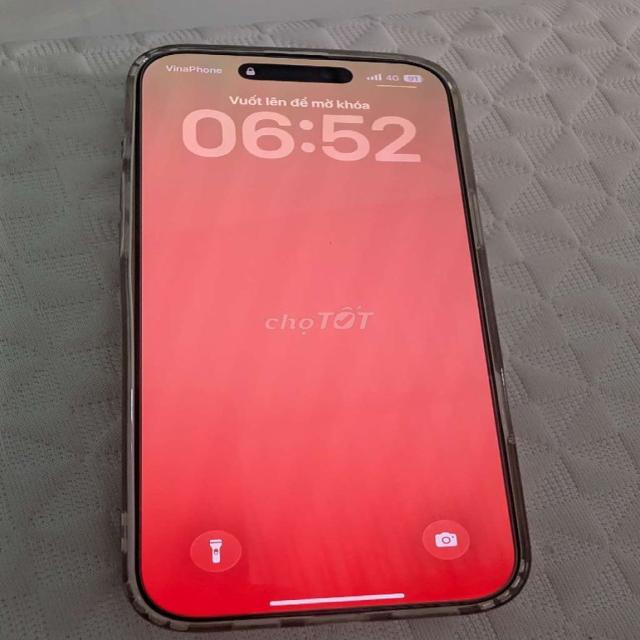gen_16: (120, 44, 530, 630)
